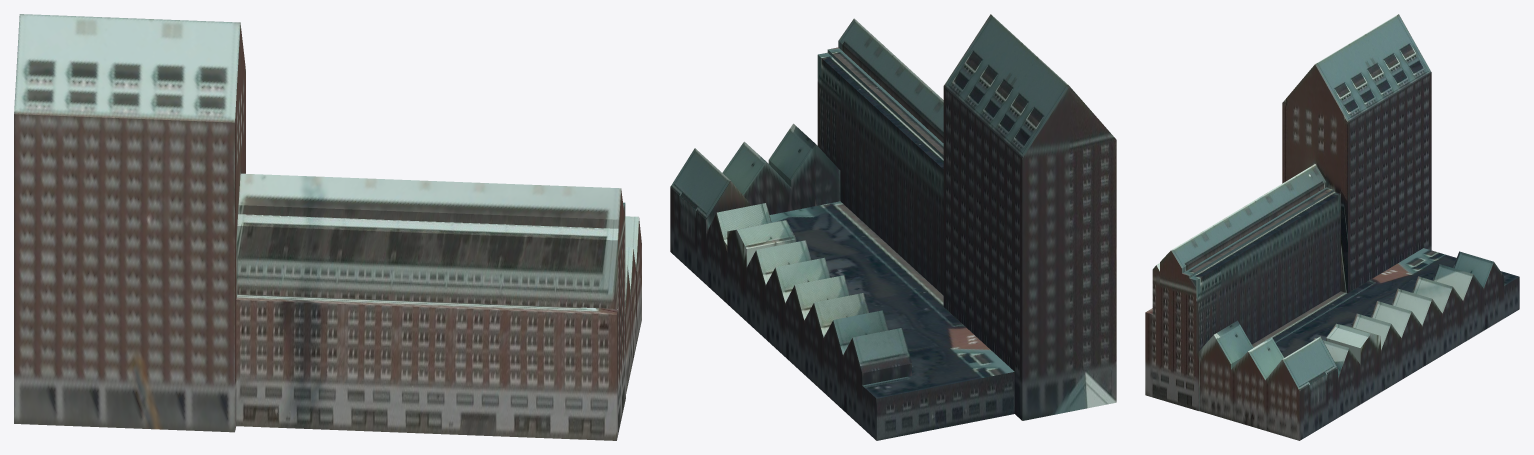
3 renders of one model, left to right at view 1: azimuth 30°, elevation 25°; view 2: azimuth 150°, elevation 25°; view 3: azimuth 270°, elevation 25°, orthographic. The views are drawn at different scales.
Parts seen in each view (by area): view 1: Z_UP; view 2: Z_UP; view 3: Z_UP.
Boxes of the visible parts, x1,y1,x2,y2 form: Z_UP: (14, 14, 641, 440); Z_UP: (670, 14, 1116, 440); Z_UP: (1145, 14, 1519, 440).
Bounding box in the file's own units: 88.18 × 56.06 × 75.49.
Materials: 27 (26 with a texture image).
